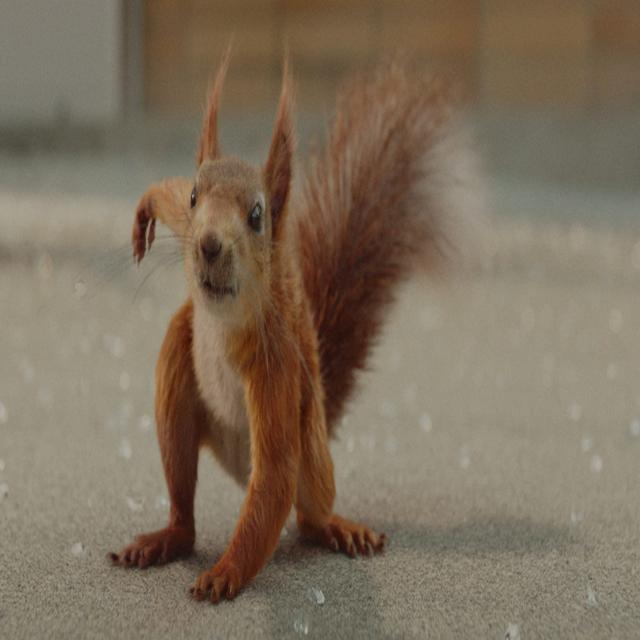Squirrel: (115, 43, 436, 599)
